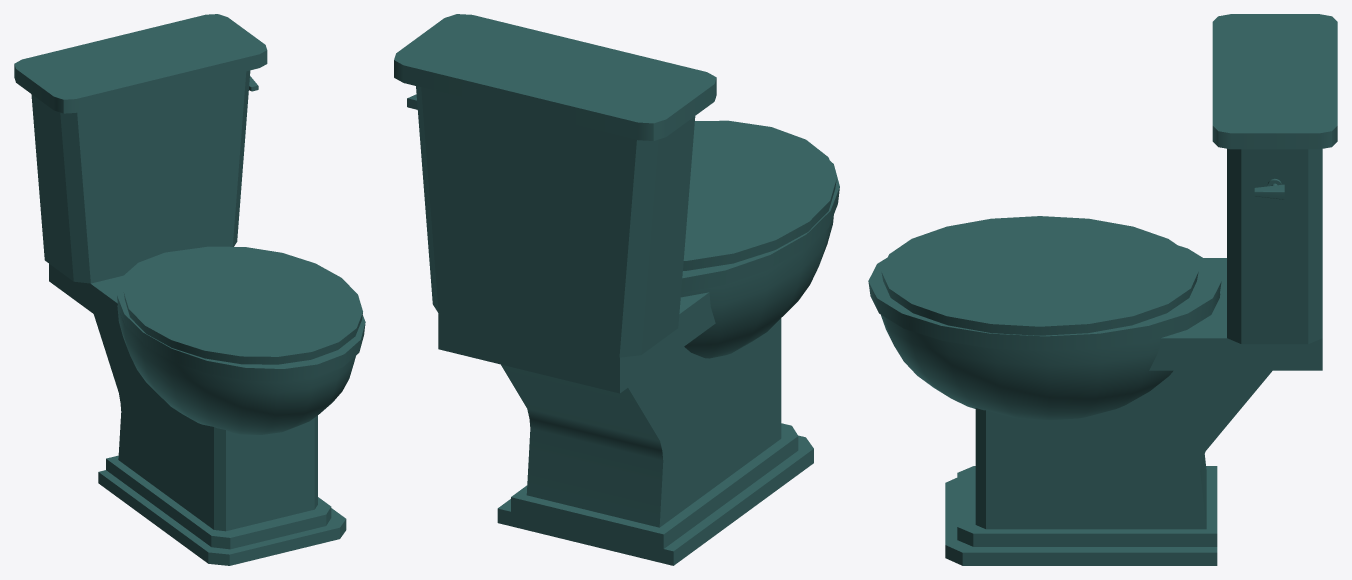
File: toilet low.fbx
3 views of the same model, side by side, from view 1: azimuth 30°, elevation 25°; view 2: azimuth 150°, elevation 25°; view 3: azimuth 270°, elevation 25° (orthographic). The views are drawn at different scales.
Parts seen in each view (by area): view 1: toilet_03_low, toilet_02_low, toilet_01_low; view 2: toilet_03_low, toilet_01_low, toilet_02_low; view 3: toilet_02_low, toilet_01_low, toilet_03_low.
Part boxes in pixels (left/top/right/bottom): toilet_03_low: left=14, top=14, right=267, bottom=283; toilet_02_low: left=117, top=246, right=365, bottom=435; toilet_01_low: left=49, top=264, right=346, bottom=565; toilet_03_low: left=394, top=14, right=716, bottom=357; toilet_01_low: left=438, top=292, right=813, bottom=565; toilet_02_low: left=681, top=120, right=839, bottom=358; toilet_02_low: left=868, top=216, right=1221, bottom=420; toilet_01_low: left=945, top=258, right=1322, bottom=565; toilet_03_low: left=1212, top=14, right=1337, bottom=344.
Bounding box in the file's own units: 24.1 × 41.33 × 38.84.
